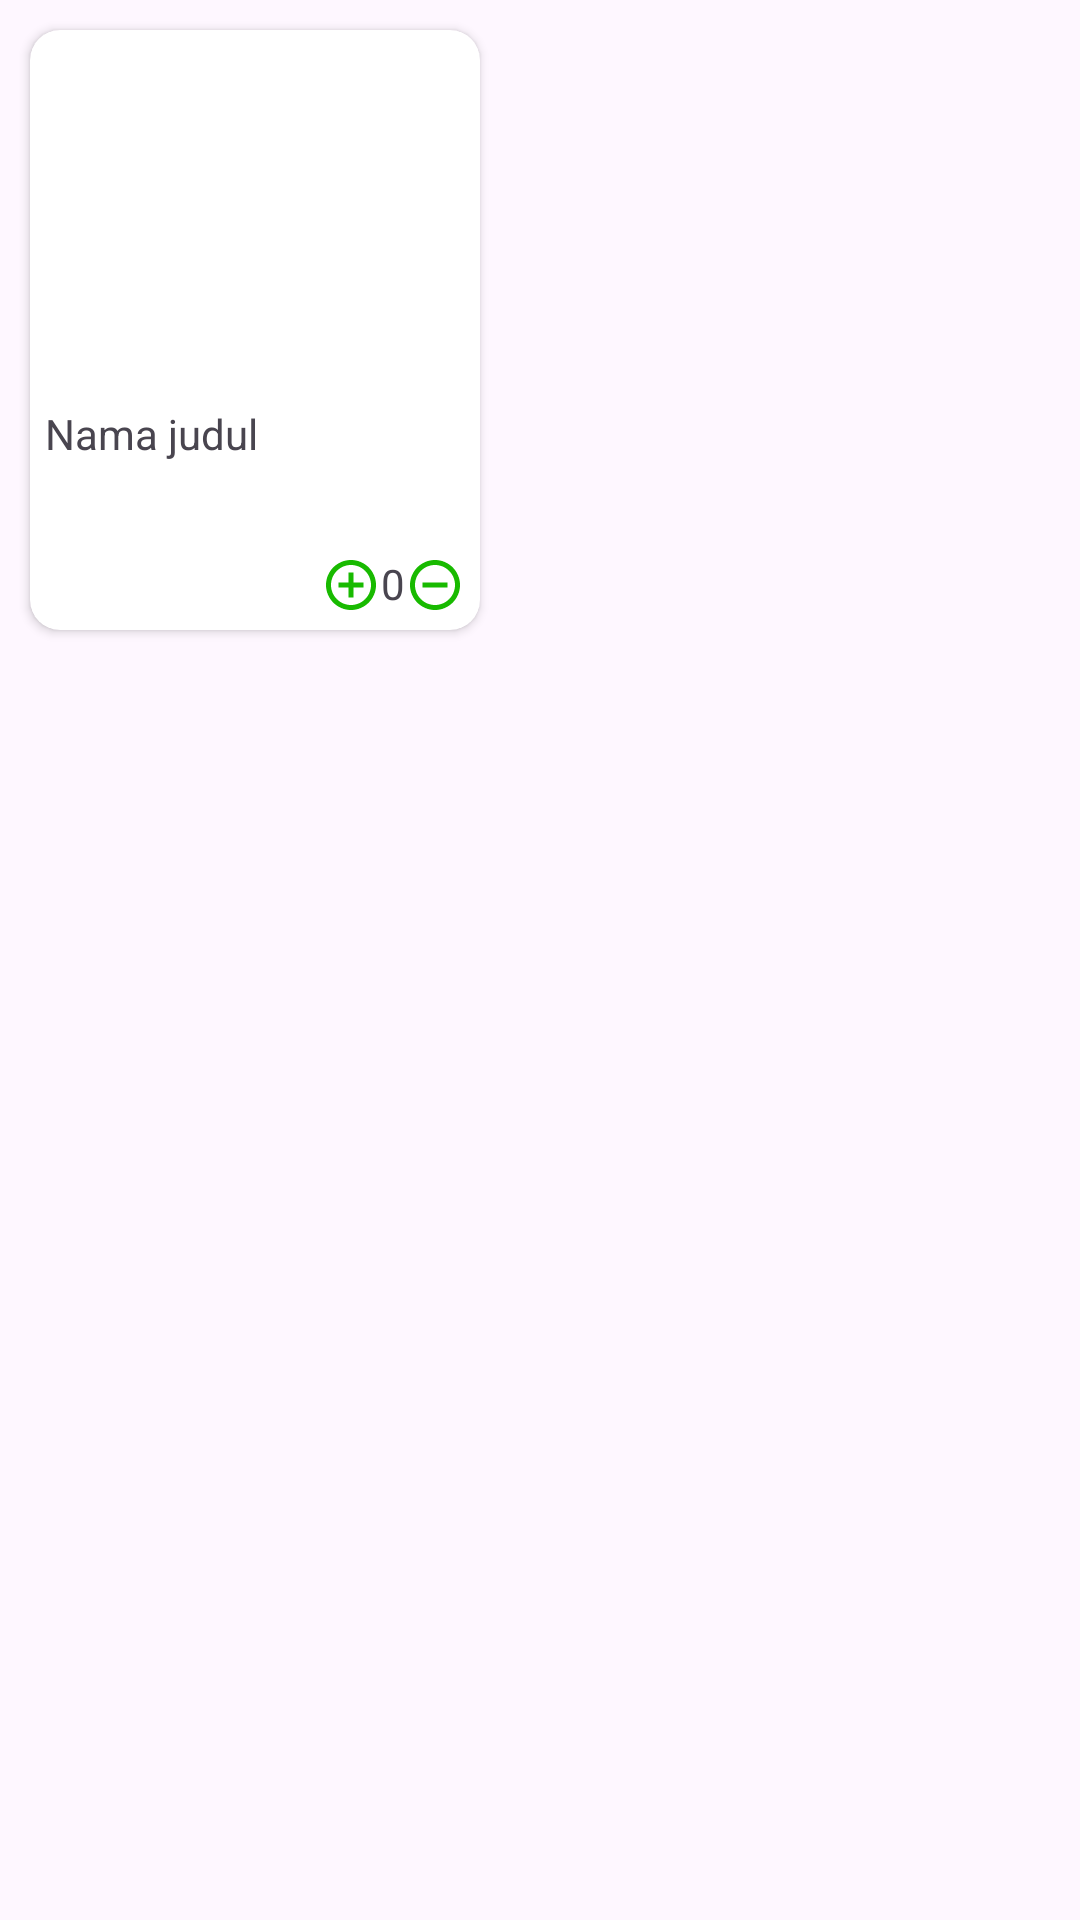

Screen size 1080×1920. Icon name, then its center in pixels as (x=x, y=y):
add circle: (x=351, y=585)
remove circle: (x=435, y=585)
